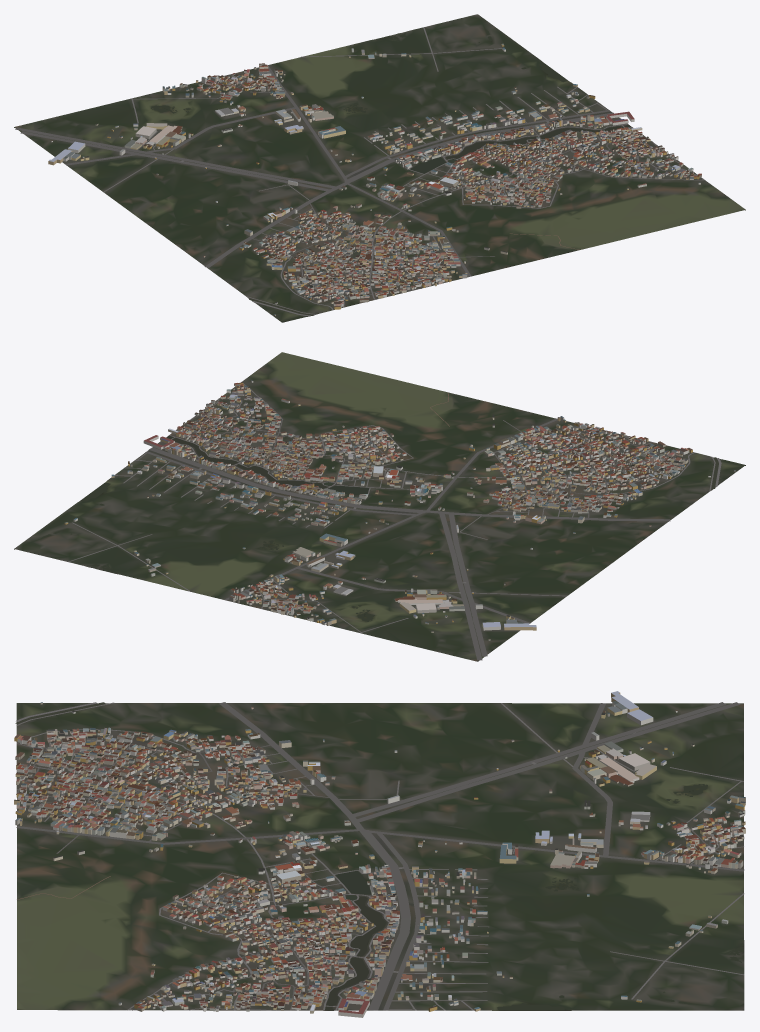
3 views of the same model, one above another, from view 1: azimuth 30°, elevation 25°; view 2: azimuth 150°, elevation 25°; view 3: azimuth 270°, elevation 25° (orthographic). The views are drawn at different scales.
Parts seen in each view (by area): view 1: ground, buildings, roads, water; view 2: ground, buildings, roads, water; view 3: ground, buildings, roads, water.
Boxes of the visible parts, <box> form: ground: <box>14,14,745,322</box>; buildings: <box>48,43,701,315</box>; roads: <box>15,27,705,316</box>; water: <box>150,29,631,315</box>; ground: <box>14,352,745,661</box>; buildings: <box>64,380,735,640</box>; roads: <box>68,382,721,660</box>; water: <box>41,436,718,621</box>; ground: <box>16,703,744,1010</box>; buildings: <box>14,691,745,1017</box>; roads: <box>16,702,744,1010</box>; water: <box>15,702,743,1010</box>.
Size of the model in its own units: 1470 by 21.08 by 1411.
